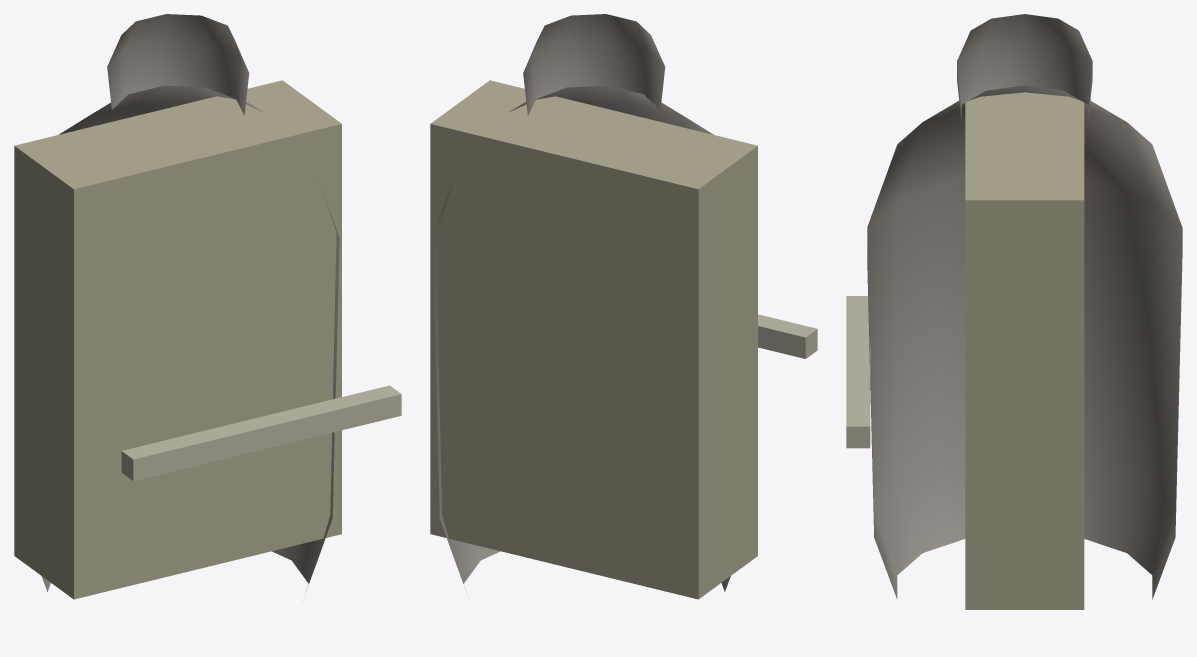
File: trench-line-1917-canteen-c8c1938b__24106.glb
The picture shows the model from 3 angles, left to right: view 1: azimuth 30°, elevation 25°; view 2: azimuth 150°, elevation 25°; view 3: azimuth 270°, elevation 25°; orthographic projection.
Parts seen in each view (by area): view 1: canteen; view 2: canteen; view 3: canteen.
Boxes of the visible parts, box(x1,y1,x2,y2) form: canteen: box(14, 14, 401, 599); canteen: box(430, 14, 817, 599); canteen: box(846, 14, 1182, 609).
Size of the model in its own units: 0.136 by 0.255 by 0.1413.
